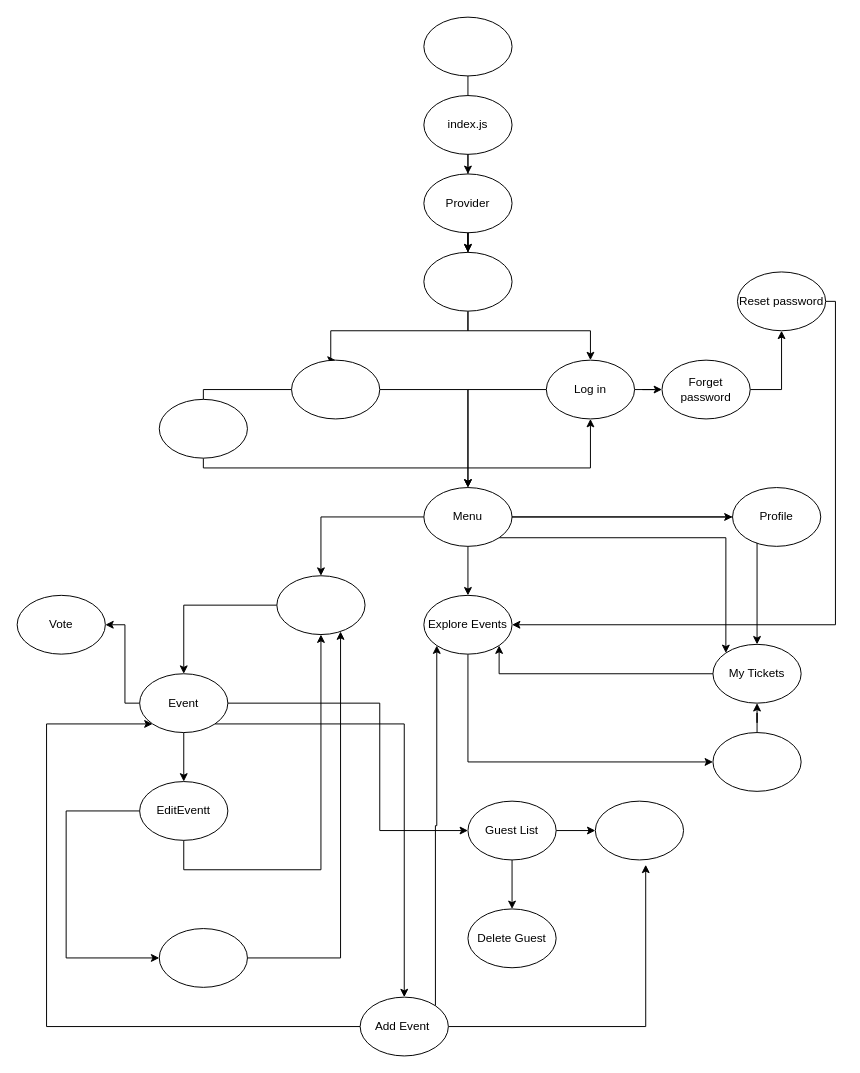
Image size: 860x1073. Some labels were removed from this diagram. Each missing label, with the centre of its shape:
"Add Guest" goes at (639,830).
"Add Tickets" goes at (756,761).
"App" goes at (467,281).
"Delete Event" goes at (202,957).
"index.html" goes at (467,46).
"My Events" goes at (320,605).
"Register" goes at (335,389).
"Verfy Email" goes at (202,428).
